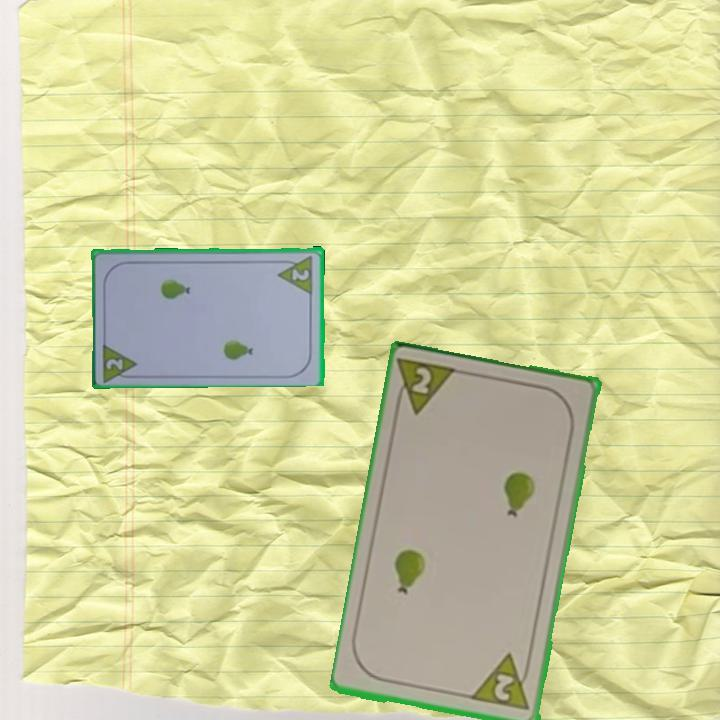2p: (391, 355, 461, 418), (469, 650, 535, 714), (99, 339, 141, 383), (289, 265, 312, 283)
